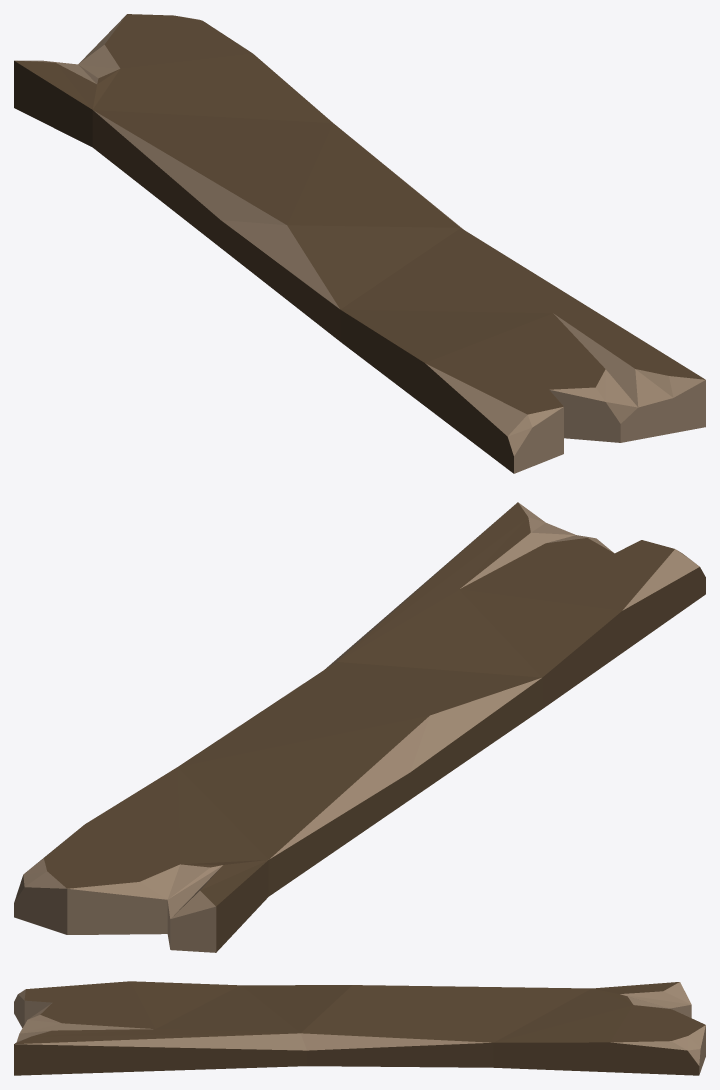
Rendered from Board_01.FBX.
3 views of the same model, one above another, from view 1: azimuth 30°, elevation 25°; view 2: azimuth 150°, elevation 25°; view 3: azimuth 270°, elevation 25° (orthographic). The views are drawn at different scales.
Parts seen in each view (by area): view 1: Board_01; view 2: Board_01; view 3: Board_01.
Part boxes in pixels (x1,y1,x2,y2): Board_01: [14, 14, 705, 473]; Board_01: [14, 502, 705, 952]; Board_01: [14, 981, 705, 1075].
Size of the model in its own units: 0.8635 by 0.236 by 3.98.
